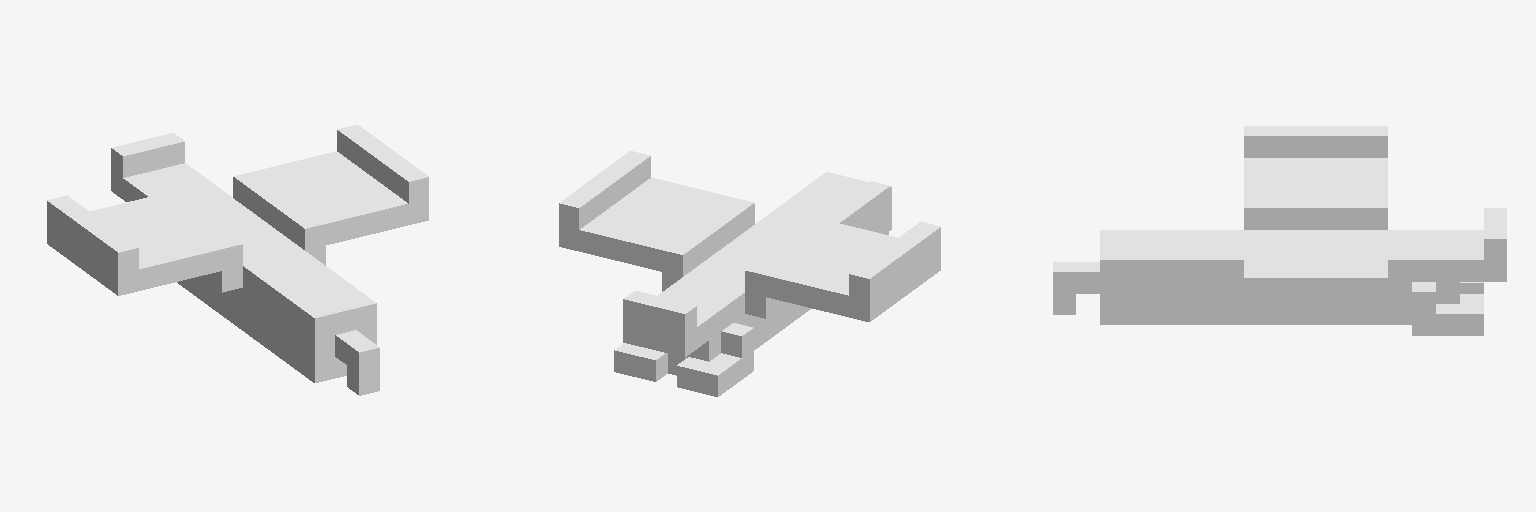
The model's file is Eagle.obj.
3 views of the same model, side by side, from view 1: azimuth 30°, elevation 25°; view 2: azimuth 150°, elevation 25°; view 3: azimuth 270°, elevation 25° (orthographic).
Parts seen in each view (by area): view 1: object 1; view 2: object 1; view 3: object 1.
Part boxes in pixels (x1,y1,x2,y2): object 1: (47,124,428,395); object 1: (559,151,940,396); object 1: (1053,126,1506,335).
Bounding box in the file's own units: 1.5 × 0.5 × 1.9.